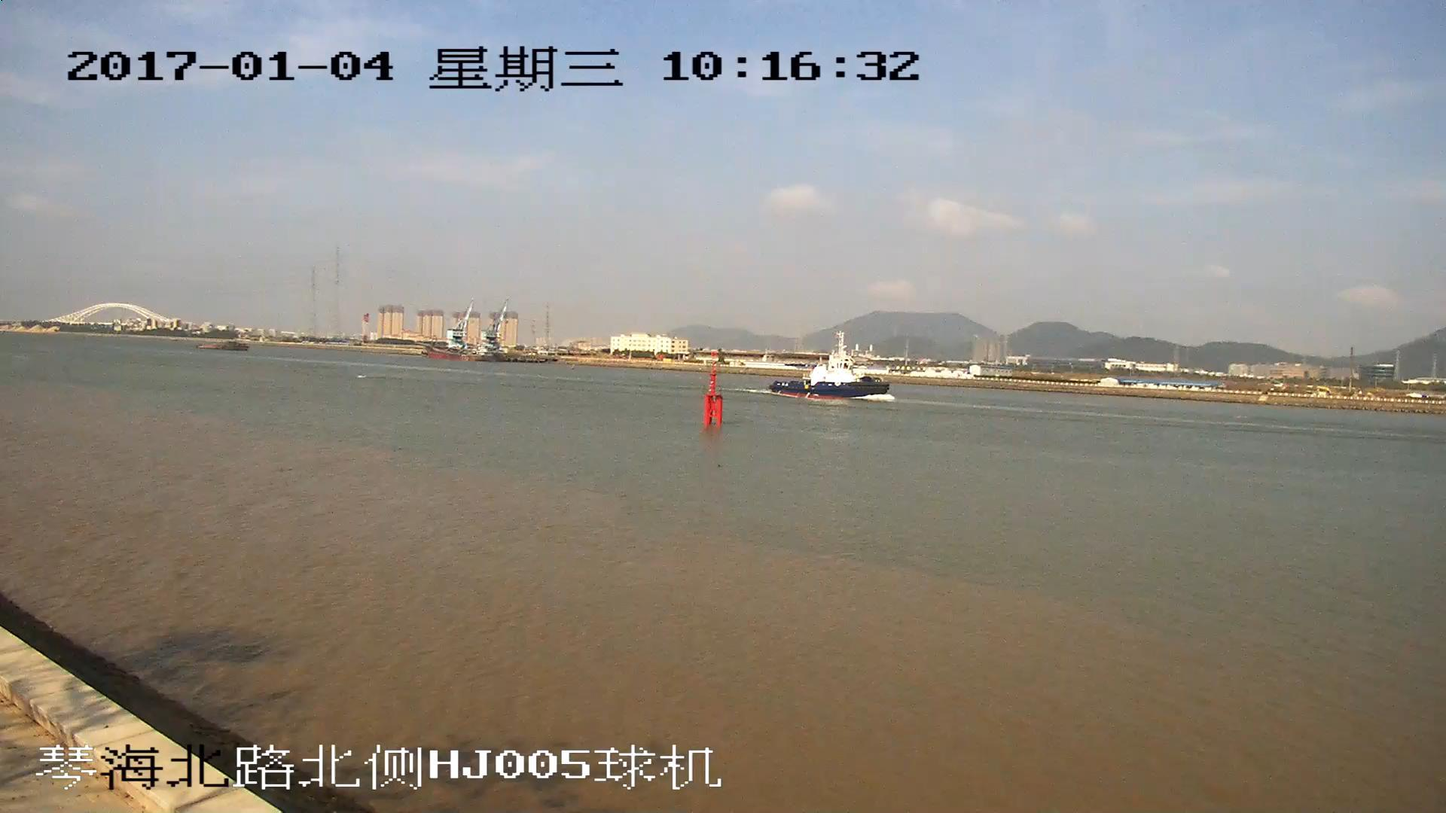passenger ship: (771, 327, 892, 400)
